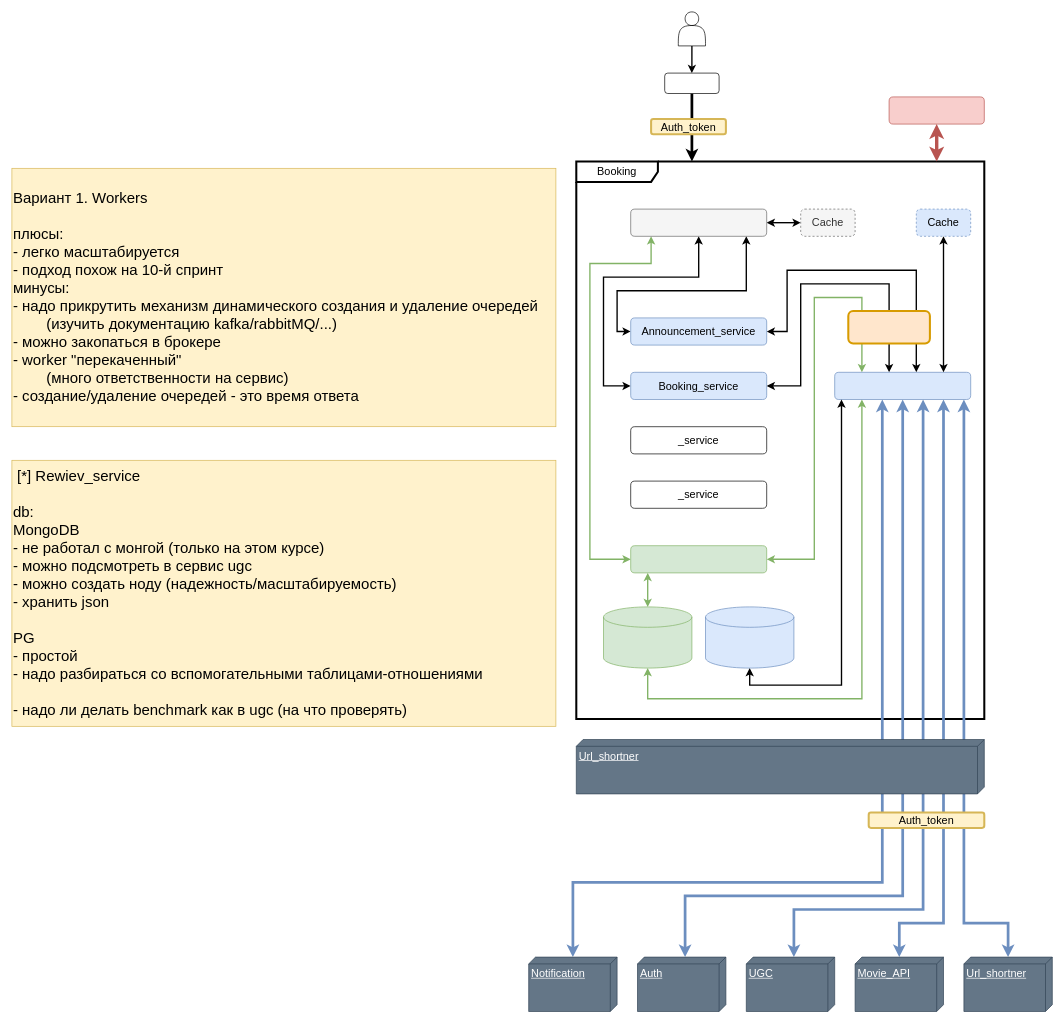
The diagram is 1064 pixels wide and 1023 high, and some of its shapes have lost their labels. The centre of each missing label's shape, as x and y in pixels:
Booking_API: (698,222)
Booking_DB: (749,637)
Broker ? **: (889,327)
ELK: (936,110)
Nginx: (691,83)
Rewiev_DB: (647,637)
Rewiev_service: (698,559)
Worker_service: (902,386)
